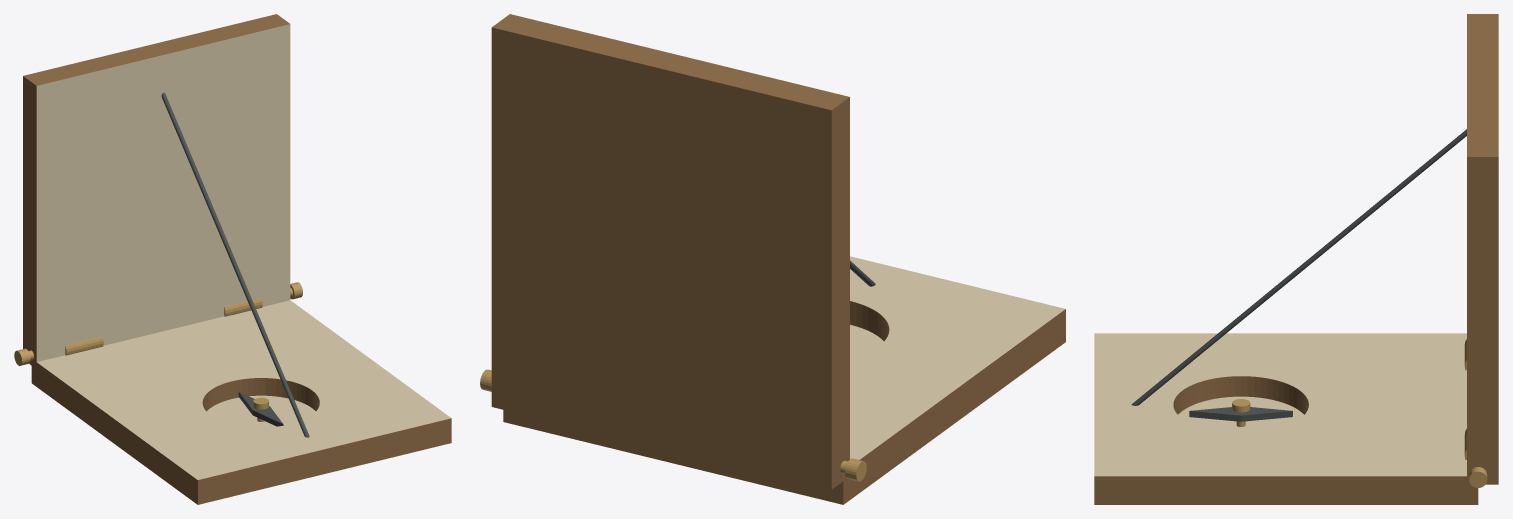
3 renders of one model, left to right at view 1: azimuth 30°, elevation 25°; view 2: azimuth 150°, elevation 25°; view 3: azimuth 270°, elevation 25°, orthographic. The views are drawn at different scales.
Parts seen in each view (by area): view 1: WholeFixedUprightBlankUpperLeaf, WholeLowerLeafWithTrueBlindCompassCup, WholeContinuousFixedDiagonalCordGnomon, WholeFixedSingleCompassNeedle; view 2: WholeFixedUprightBlankUpperLeaf, WholeLowerLeafWithTrueBlindCompassCup, WholeAcrossLeafHingePin; view 3: WholeLowerLeafWithTrueBlindCompassCup, WholeFixedUprightBlankUpperLeaf, WholeContinuousFixedDiagonalCordGnomon, WholeFixedSingleCompassNeedle.
Boxes of the visible parts, <box> form: WholeFixedUprightBlankUpperLeaf: <box>23,14,290,365</box>; WholeLowerLeafWithTrueBlindCompassCup: <box>31,300,451,504</box>; WholeContinuousFixedDiagonalCordGnomon: <box>161,92,309,437</box>; WholeFixedSingleCompassNeedle: <box>238,392,283,426</box>; WholeFixedUprightBlankUpperLeaf: <box>491,14,849,489</box>; WholeLowerLeafWithTrueBlindCompassCup: <box>503,256,1065,504</box>; WholeAcrossLeafHingePin: <box>480,369,866,481</box>; WholeLowerLeafWithTrueBlindCompassCup: <box>1094,333,1478,504</box>; WholeFixedUprightBlankUpperLeaf: <box>1467,14,1498,484</box>; WholeContinuousFixedDiagonalCordGnomon: <box>1131,129,1466,405</box>; WholeFixedSingleCompassNeedle: <box>1189,407,1292,421</box>.
Bounding box in the file's own units: 0.166 × 0.17 × 0.179.
